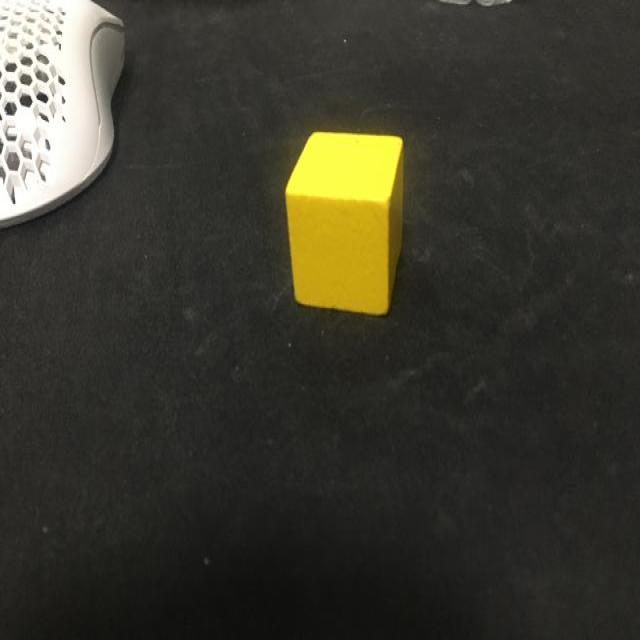yellow: (286, 132, 403, 314)
